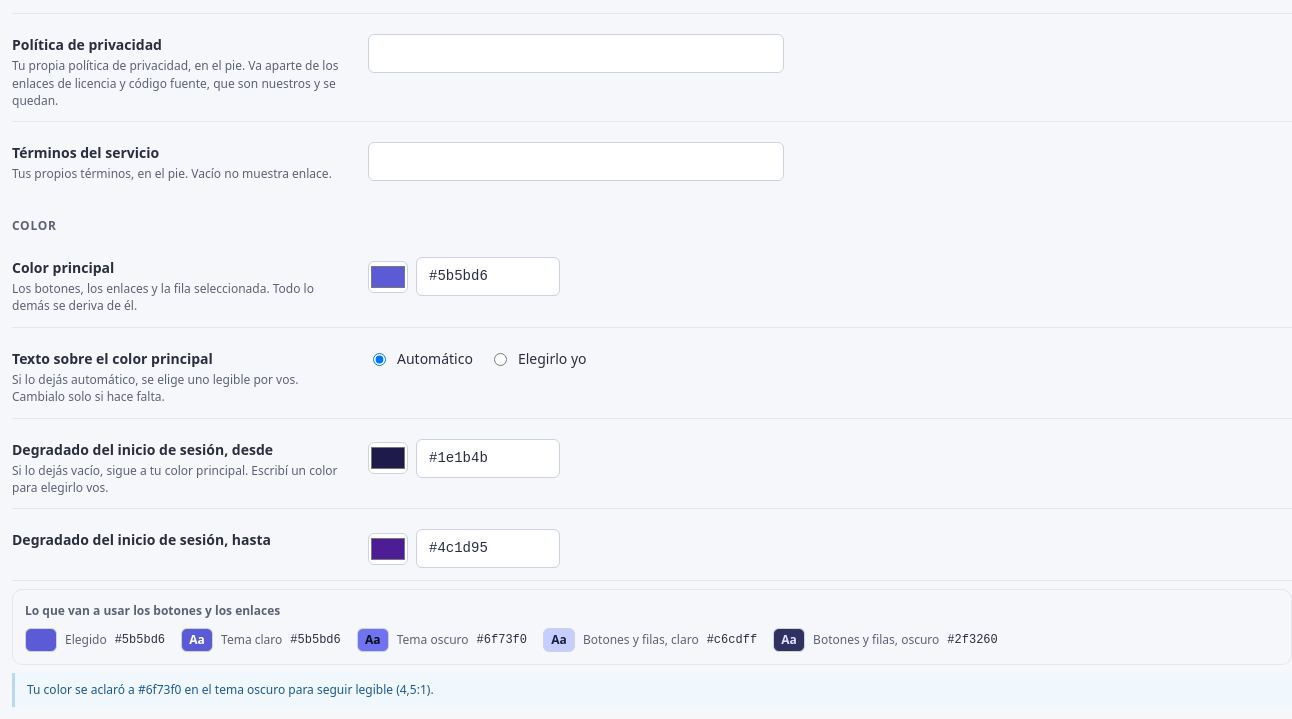
the colour picker, and the preview that must not escape its box › reveals the override field only when asked, seeded with the derived value
(page scrolled)
Click the radio button labelled "Elegirlo yo" at (500, 360), box [494,353,507,366]
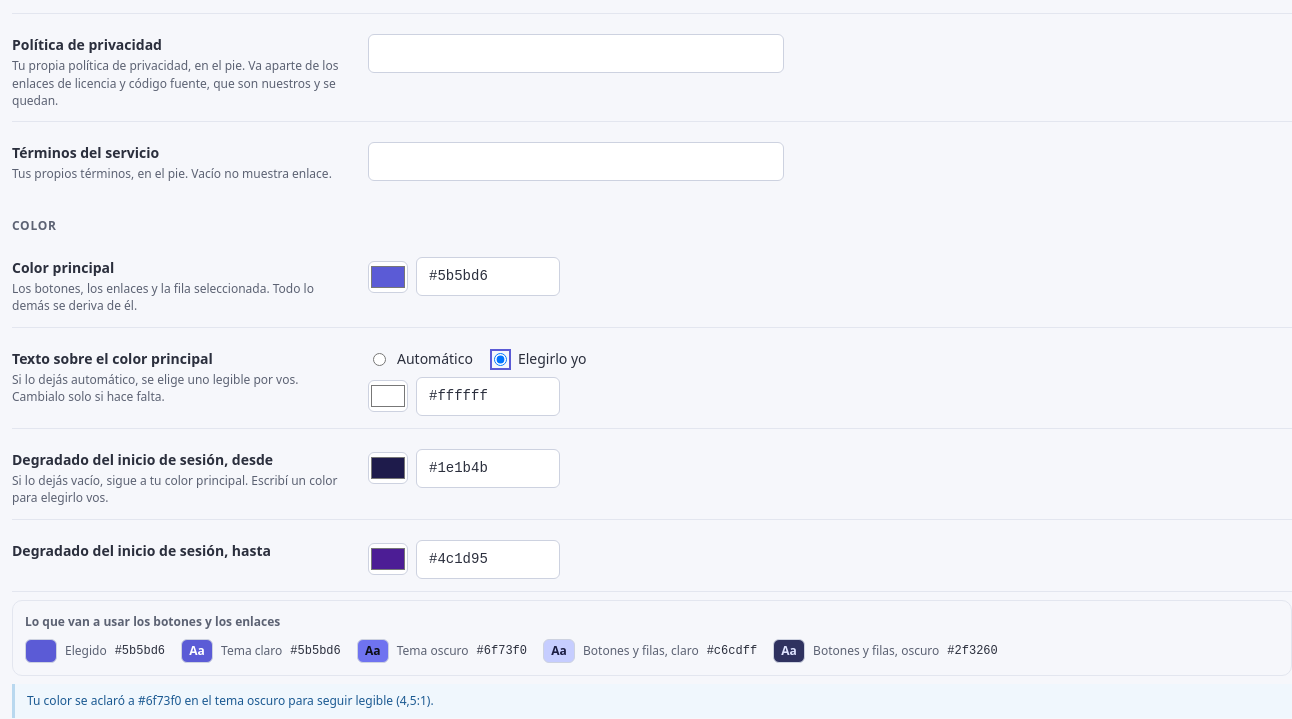
Now the field named "Texto sobre el color principal, en hexadecimal" holds "#ffffff", box [416,377,560,416]
